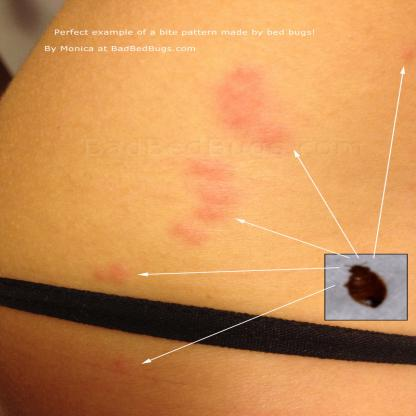Bed Bug: (160, 156, 238, 253), (212, 60, 292, 154), (86, 257, 134, 285)
